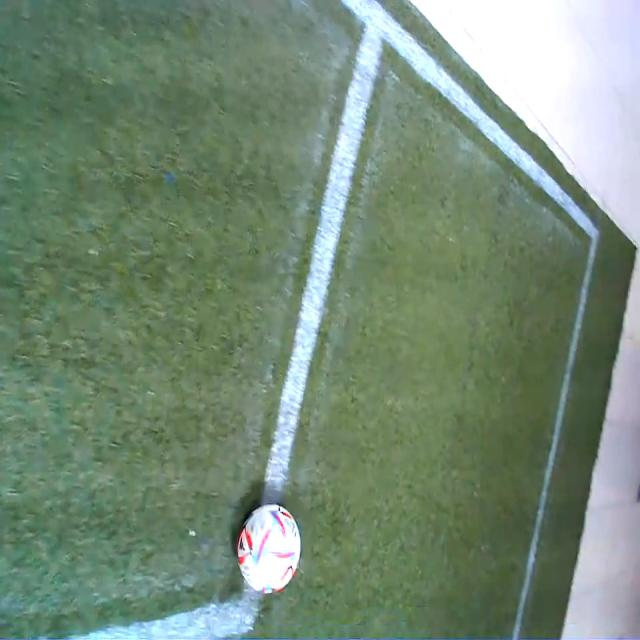ball: (238, 504, 302, 594)
